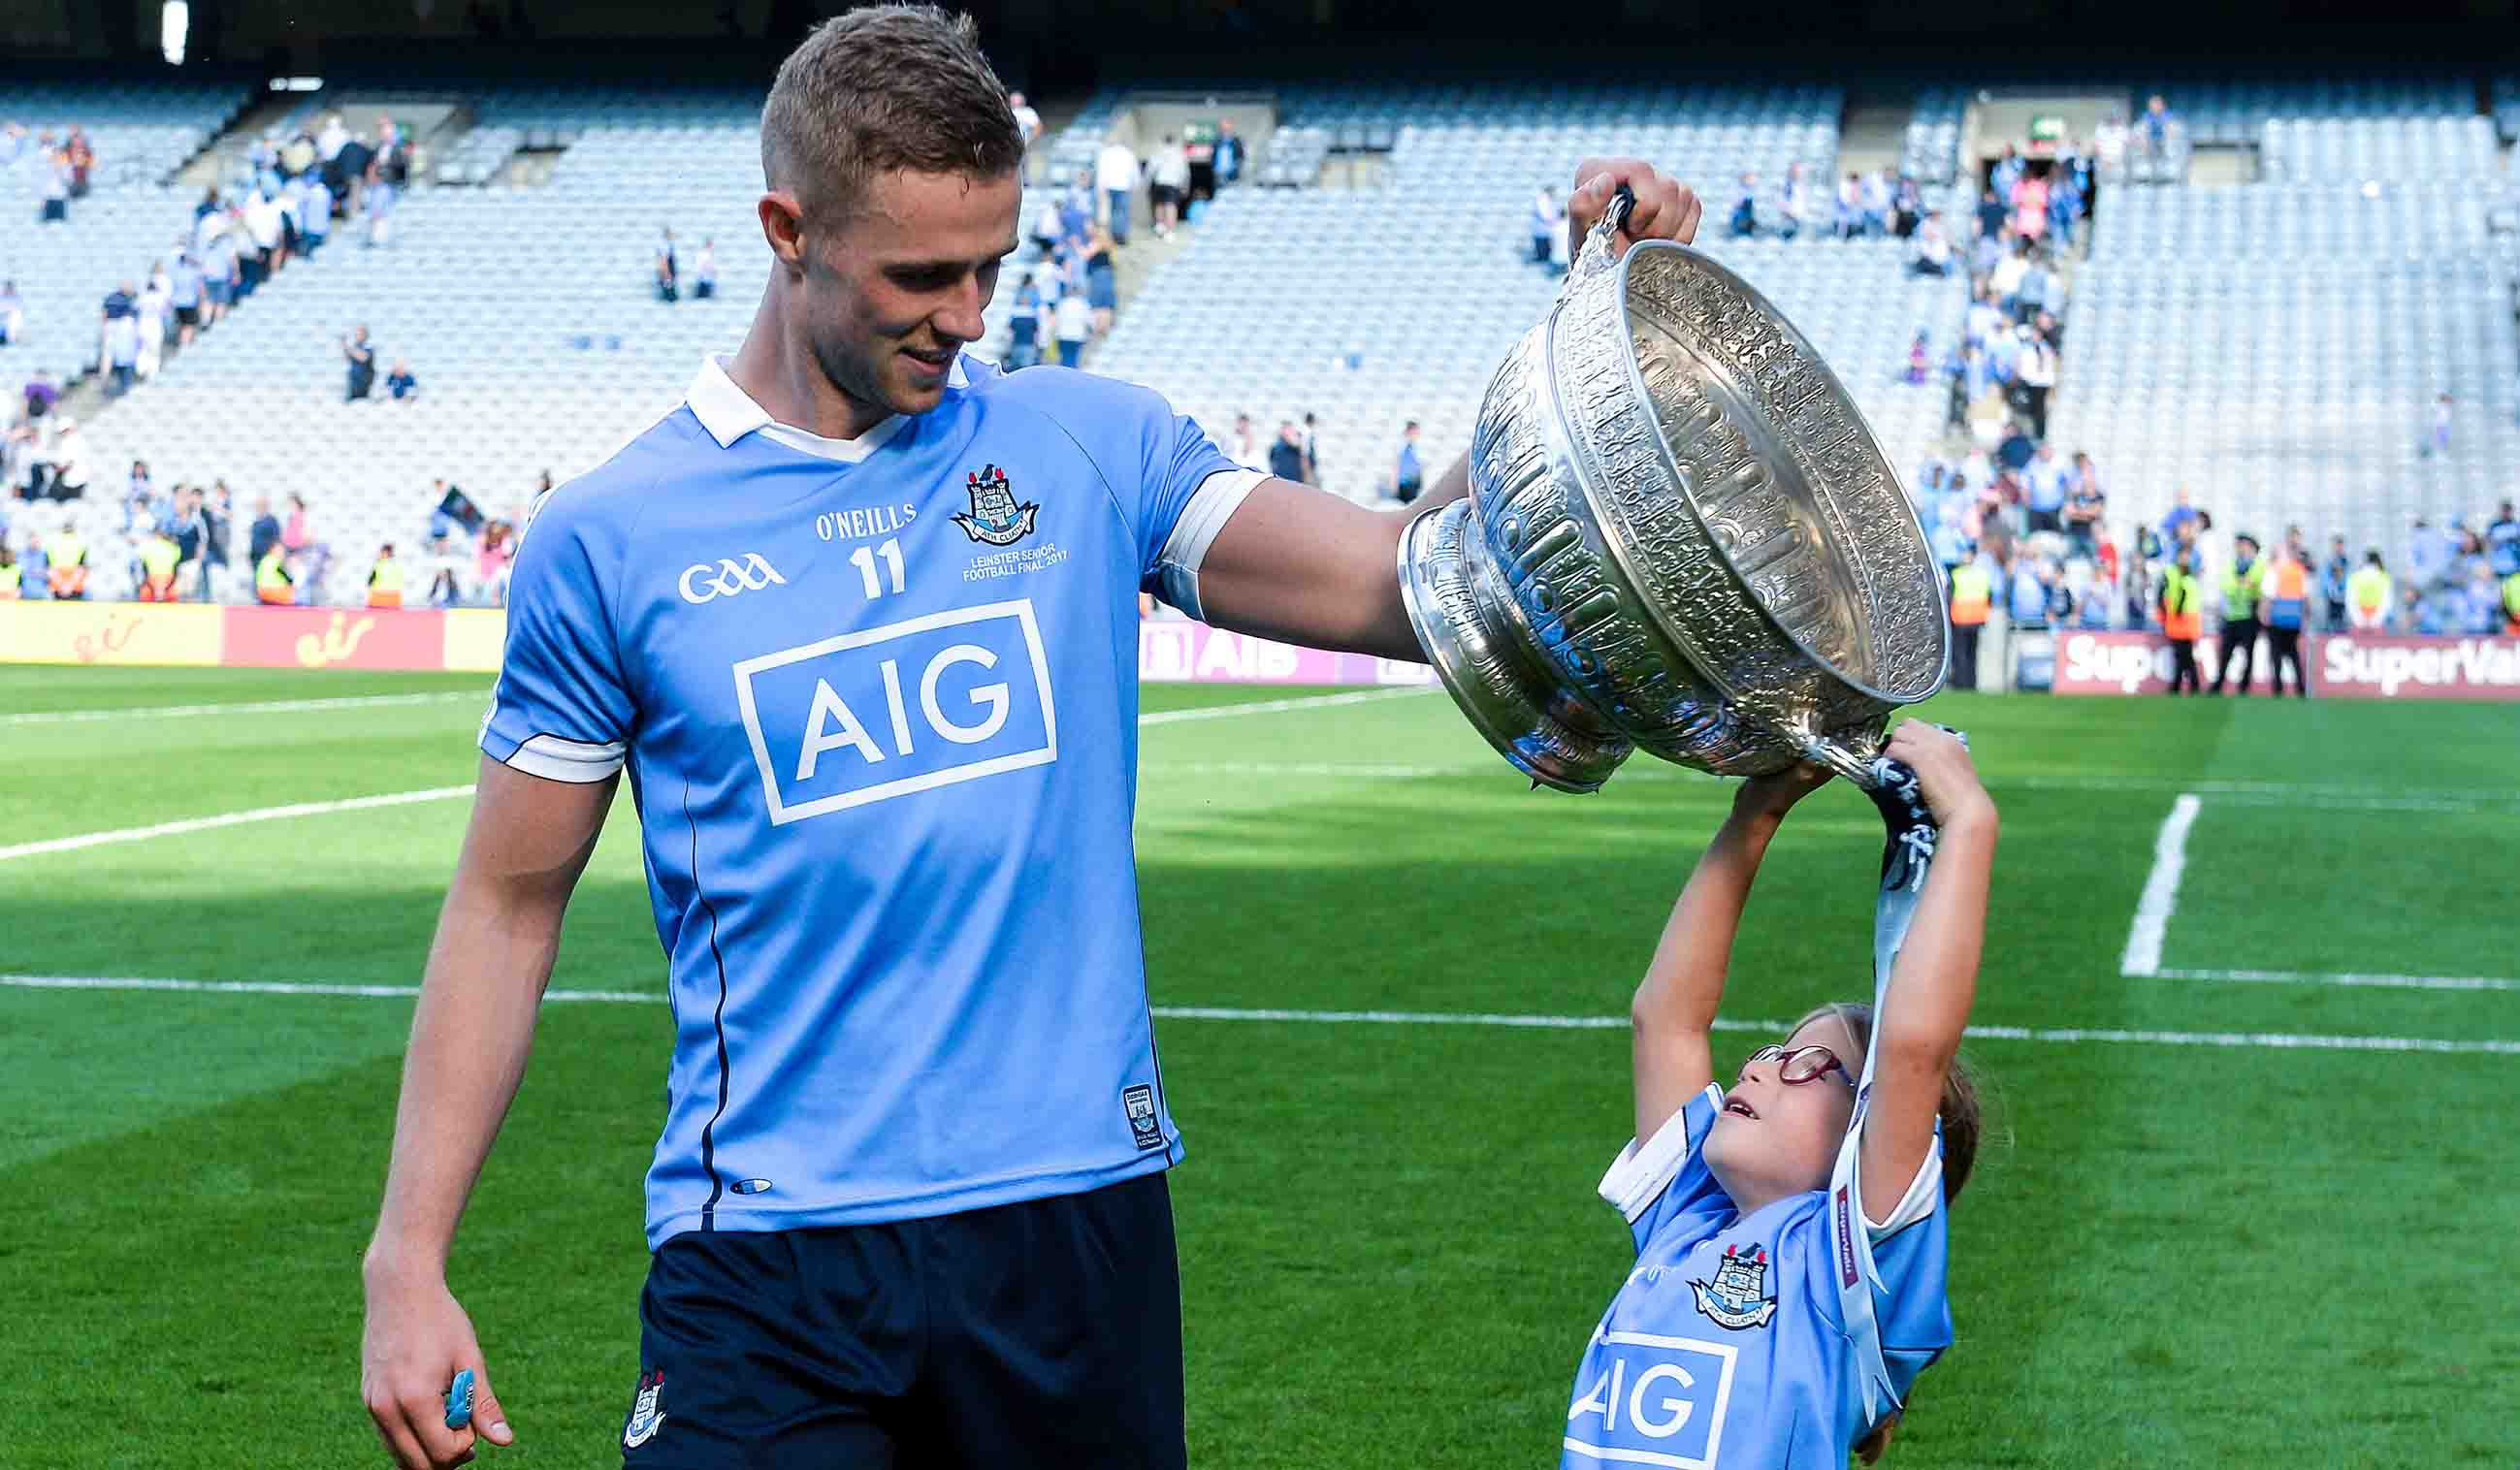player: (554, 10, 1248, 1454), (1593, 934, 1979, 1467)
